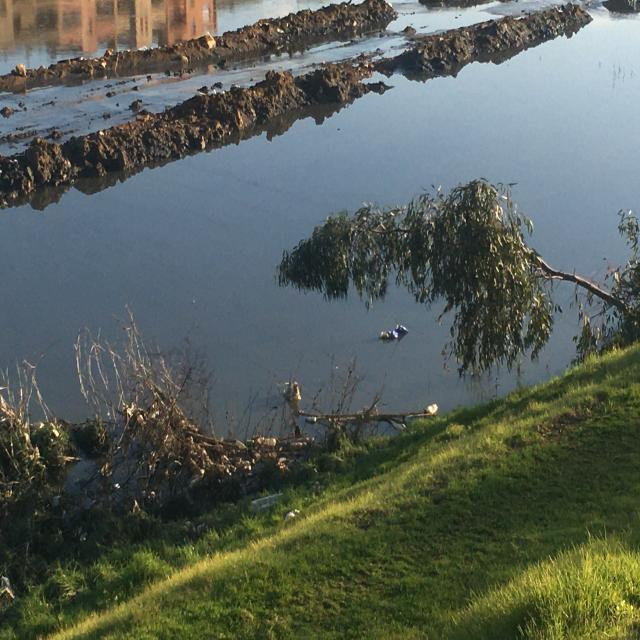Plastic bag: (379, 319, 408, 342)
Plastic bottle: (425, 402, 439, 414)
